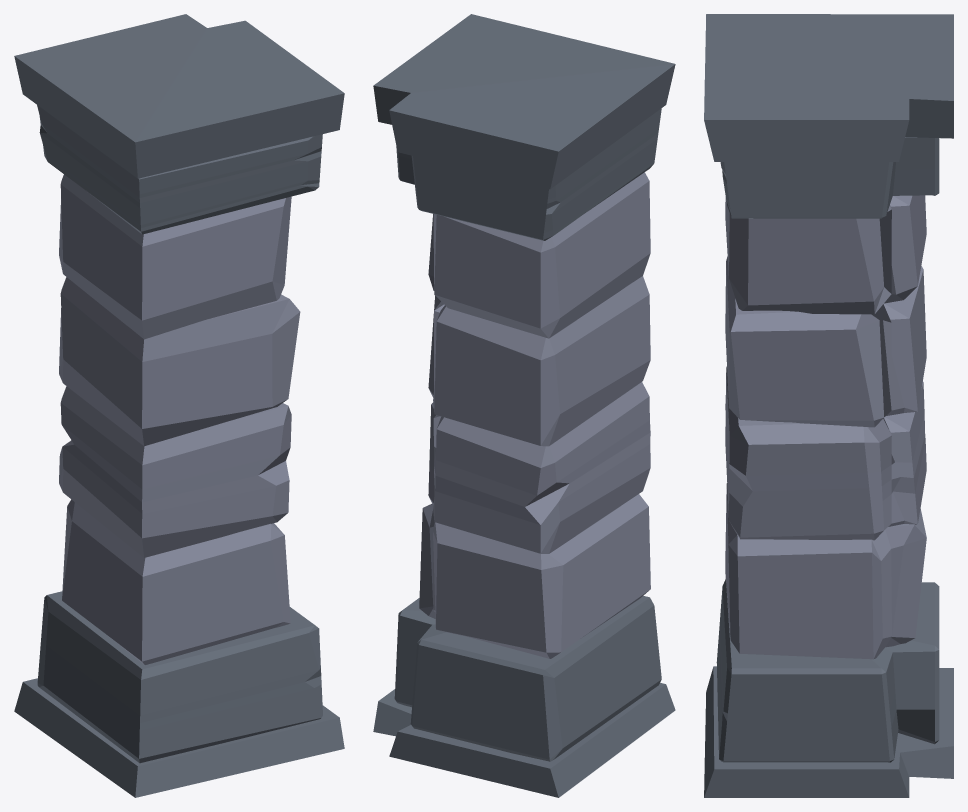
The model's file is Corner_Column.fbx.
3 views of the same model, side by side, from view 1: azimuth 30°, elevation 25°; view 2: azimuth 150°, elevation 25°; view 3: azimuth 270°, elevation 25° (orthographic). The views are drawn at different scales.
Parts seen in each view (by area): view 1: Columna_Esquina; view 2: Columna_Esquina; view 3: Columna_Esquina.
Boxes of the visible parts, x1,y1,x2,y2 form: Columna_Esquina: [14, 14, 344, 797]; Columna_Esquina: [373, 14, 675, 797]; Columna_Esquina: [704, 14, 953, 797].
Size of the model in its own units: 171 by 511 by 170.
